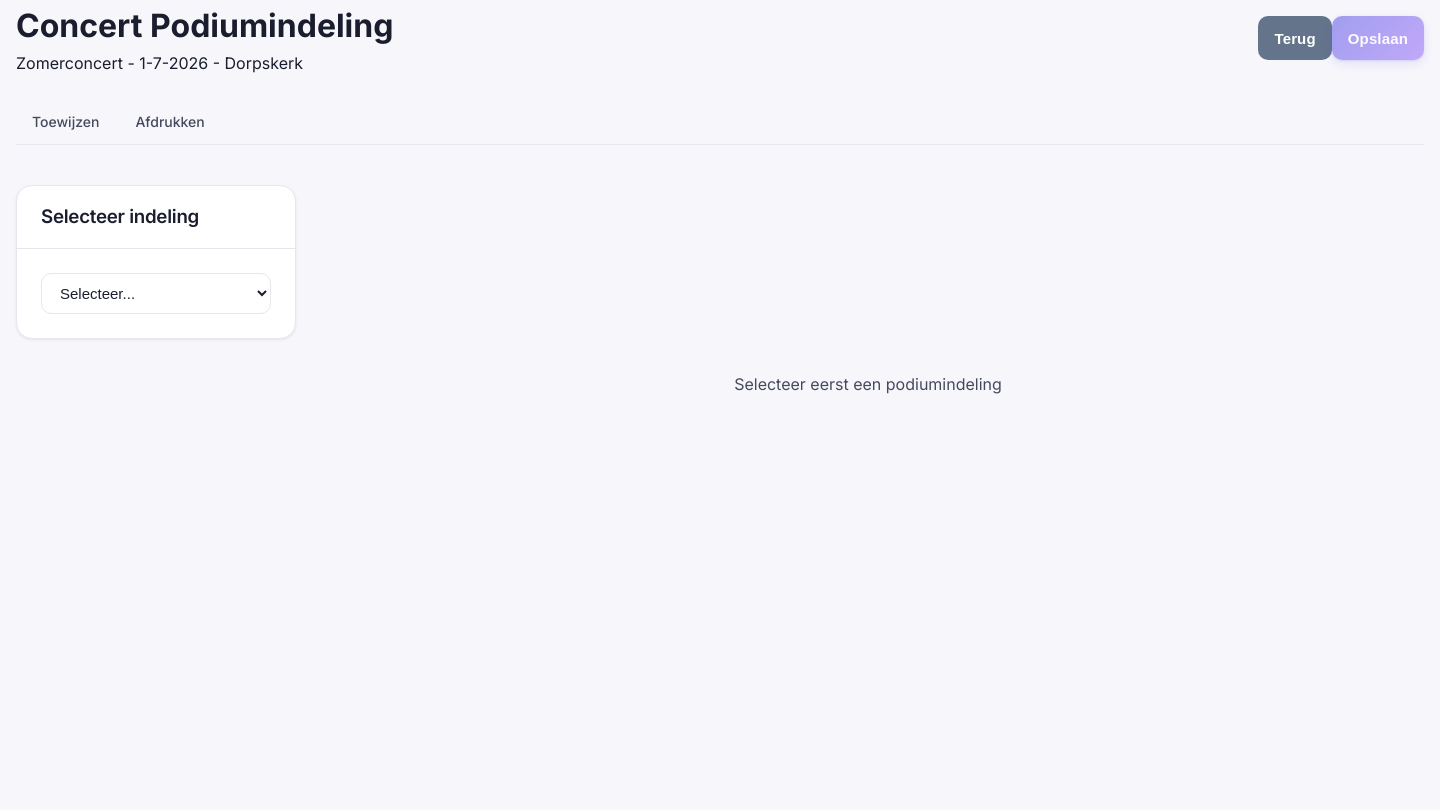
concertpodium - de ledenlijst › toont na het kiezen van een indeling alle leden met hun instrument
expect the button "Toewijzen" is shown: met, box [16, 101, 115, 144]
Select "Grote zaal" in the dropdown at (156, 293), box [41, 273, 271, 314]
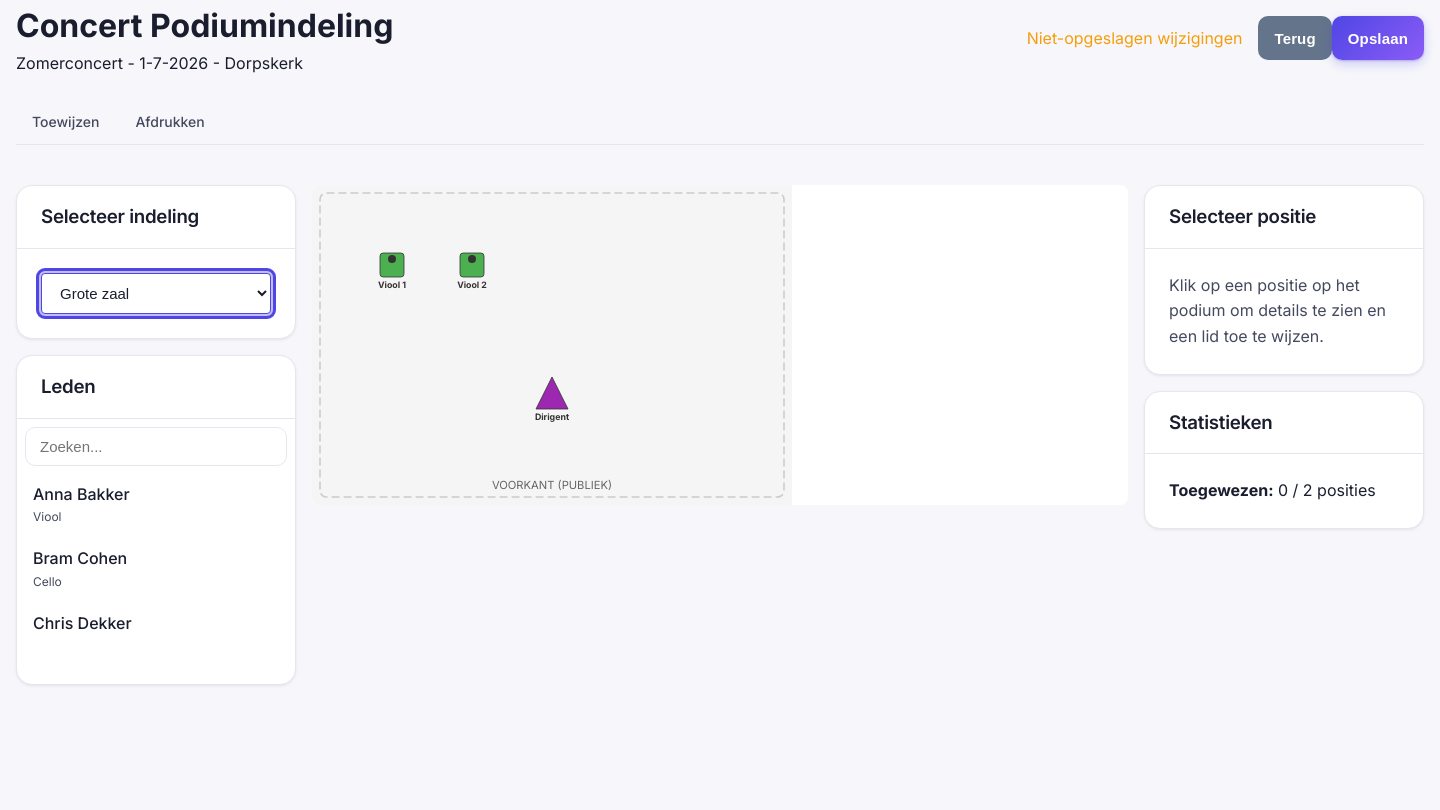
expect the heading "Leden" is shown: met, box [41, 372, 96, 402]
expect the text "Anna Bakker" is shown: met, box [33, 484, 130, 504]
expect the text "Viool" is shown: met, box [33, 509, 62, 524]
